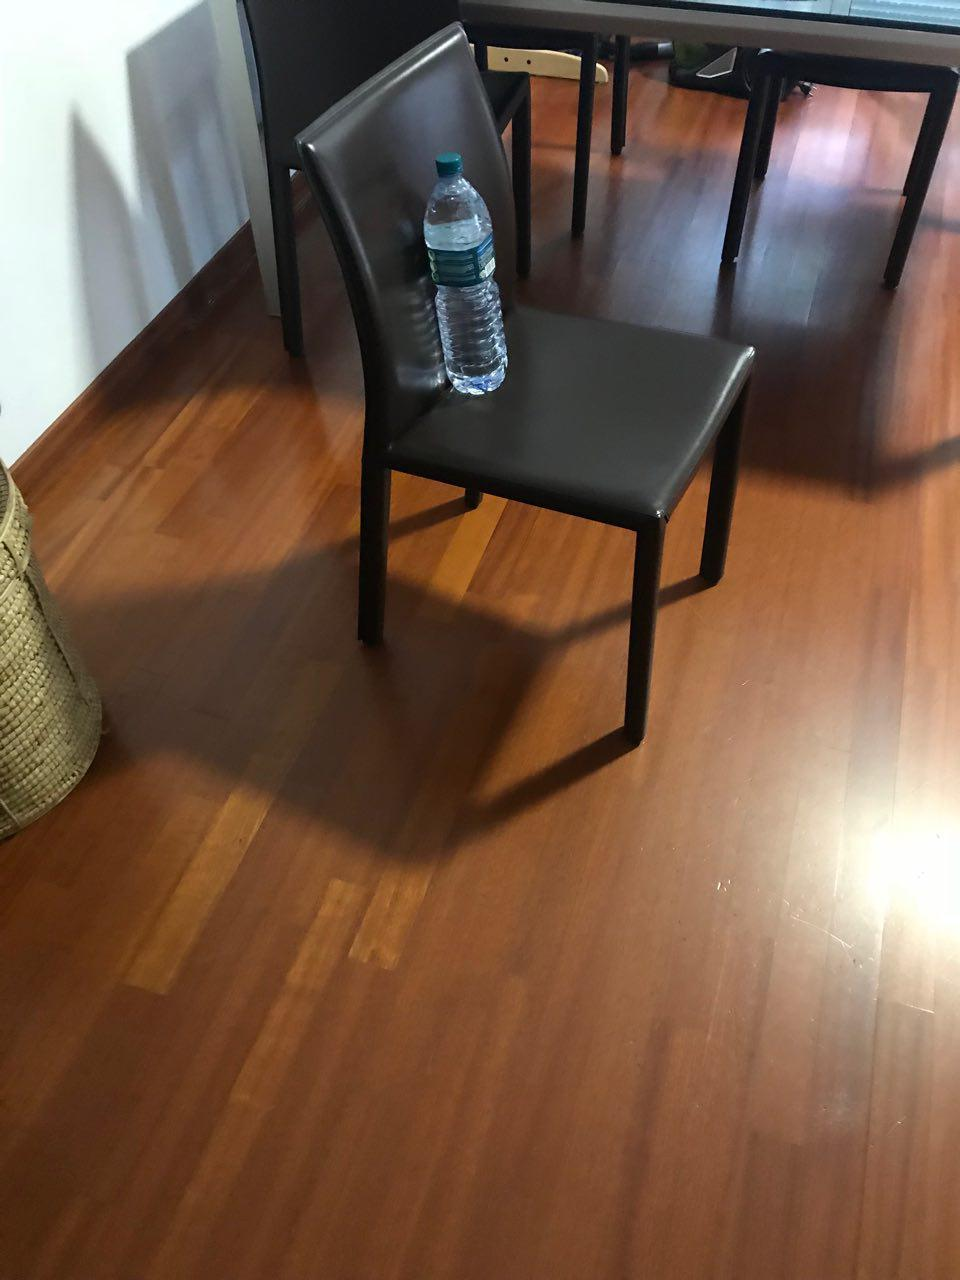san_bernardo: (422, 153, 508, 396)
